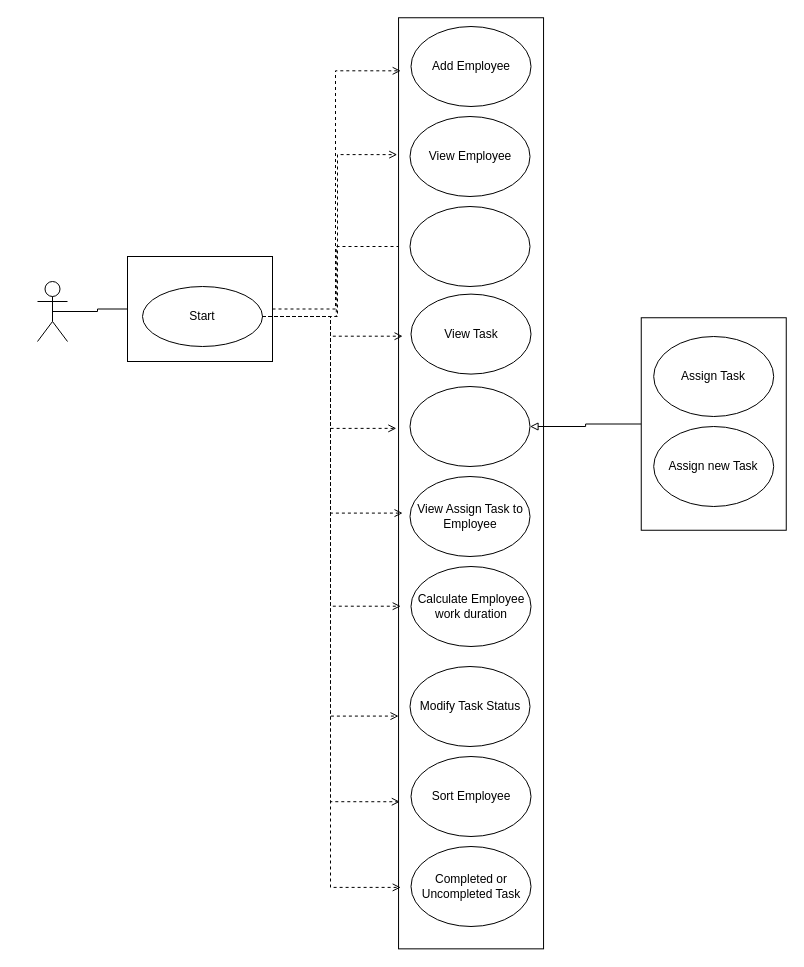
Some shapes in this 804 by 967 pixel diagram are drawn without their labels. The shapes that lost their labels are listed below. From the top down, each one's centre as x and y in pixels, then its label:
point (469, 246): Add Task
point (52, 311): Administrator
point (469, 426): Assign Task to Employee
